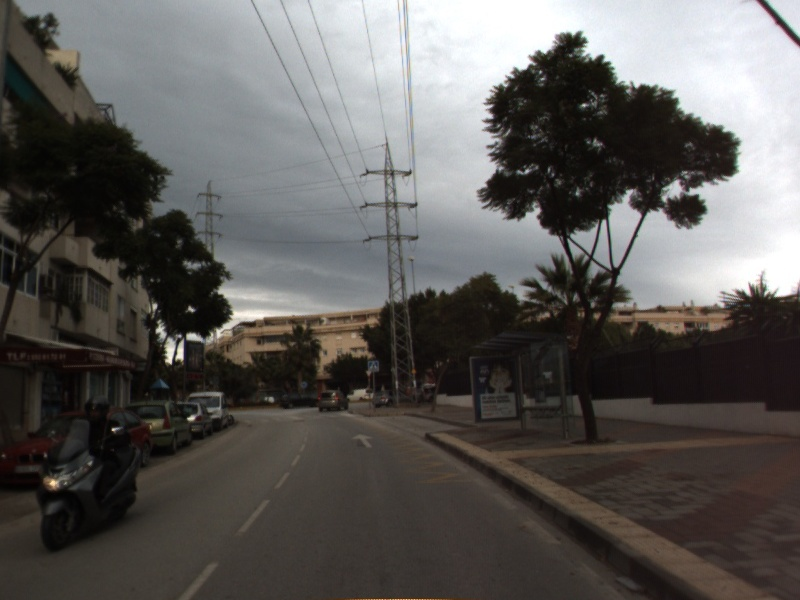STRAIGHT: (350, 432, 376, 450)
